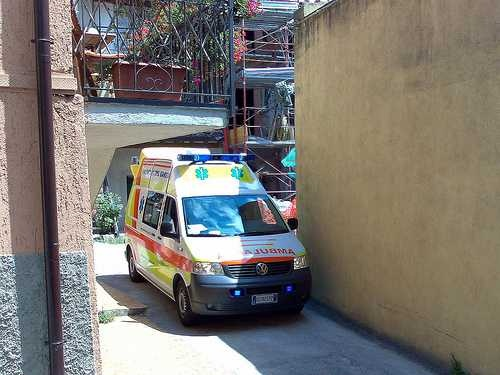Ambulance: (109, 143, 303, 329)
